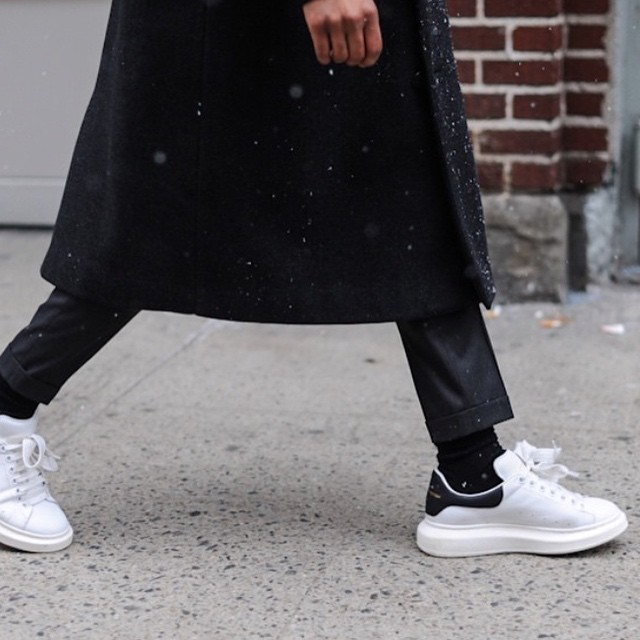sneaker: (398, 412, 640, 566), (1, 386, 89, 565)
